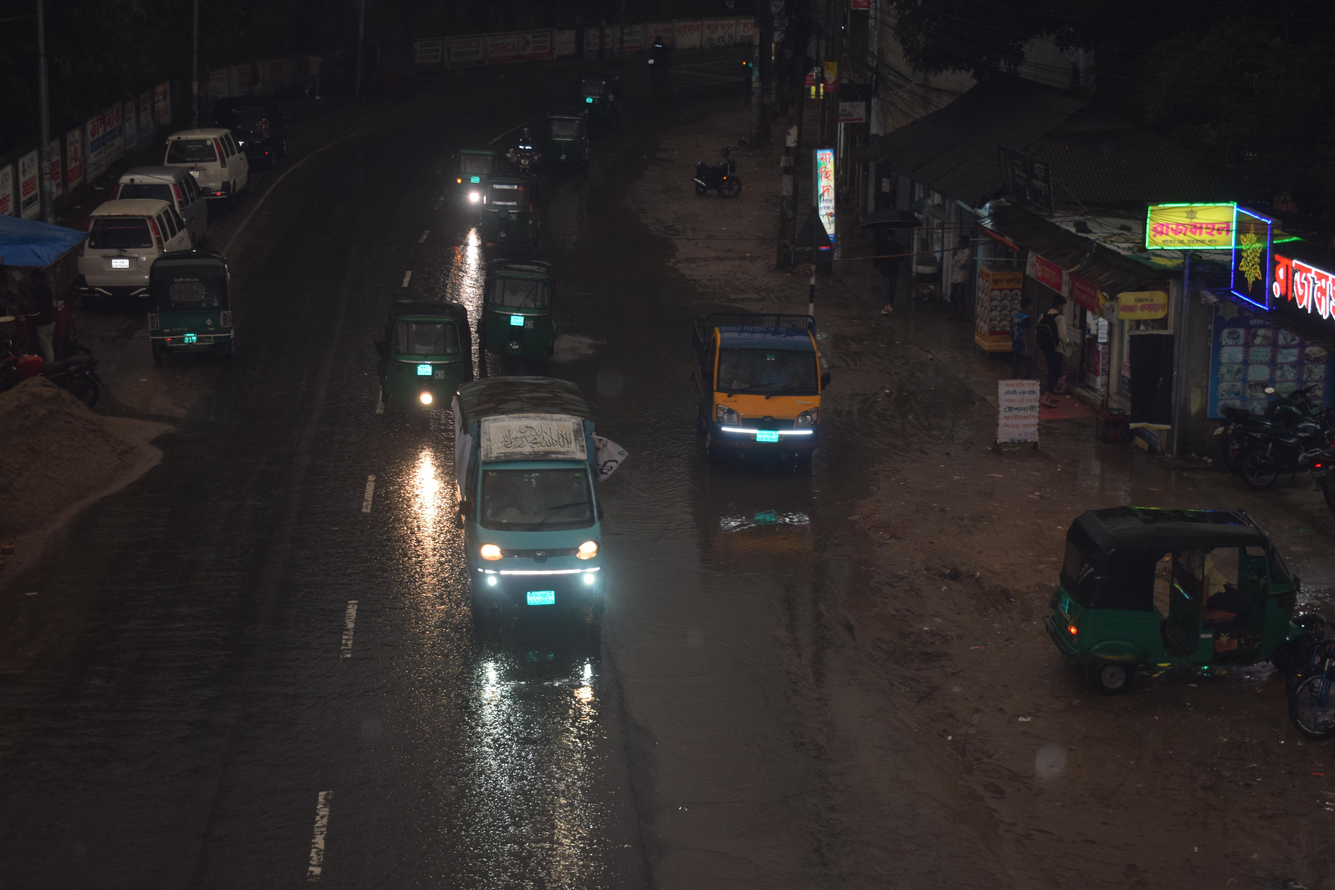Bike: (673, 135, 765, 224)
Car: (410, 349, 676, 701), (70, 190, 209, 312), (148, 113, 277, 213)
Truck: (672, 277, 879, 516)
